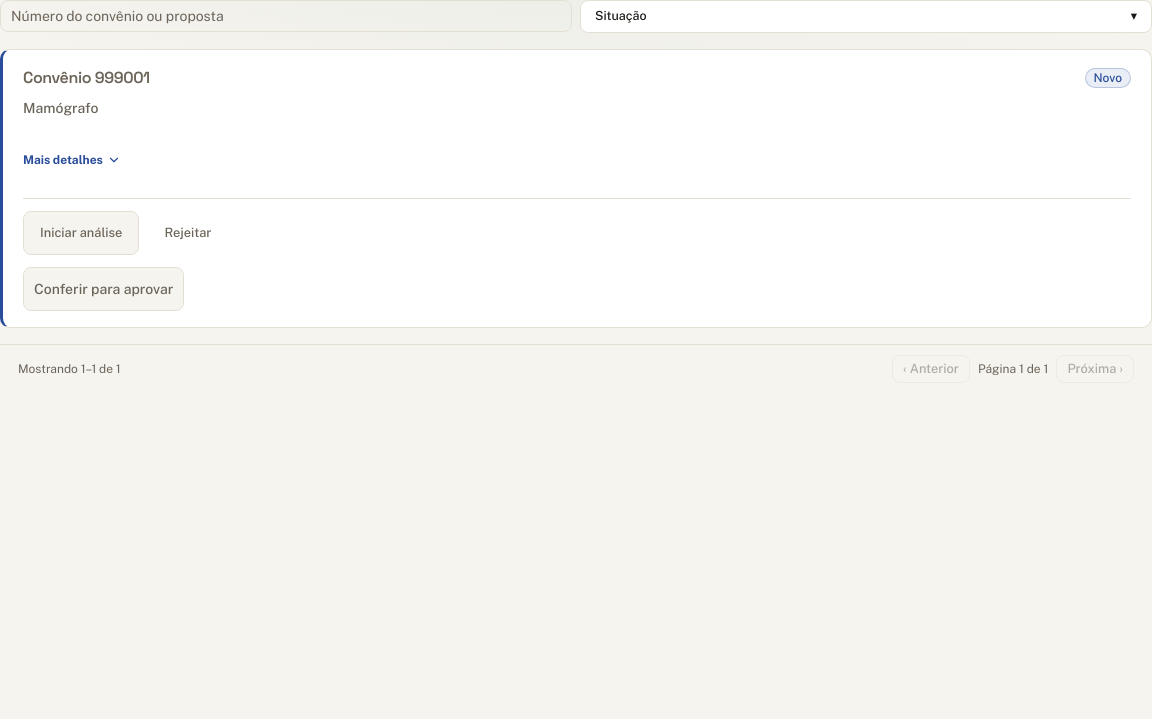
it: conferência e aprovação no Radar › permite ao admin abrir a prova sem inclusão automática
Expected: the heading "Convênio 999001" is shown, [23,66,150,90]
Click the button "Conferir para aprovar": (104,289) [23,267,184,311]
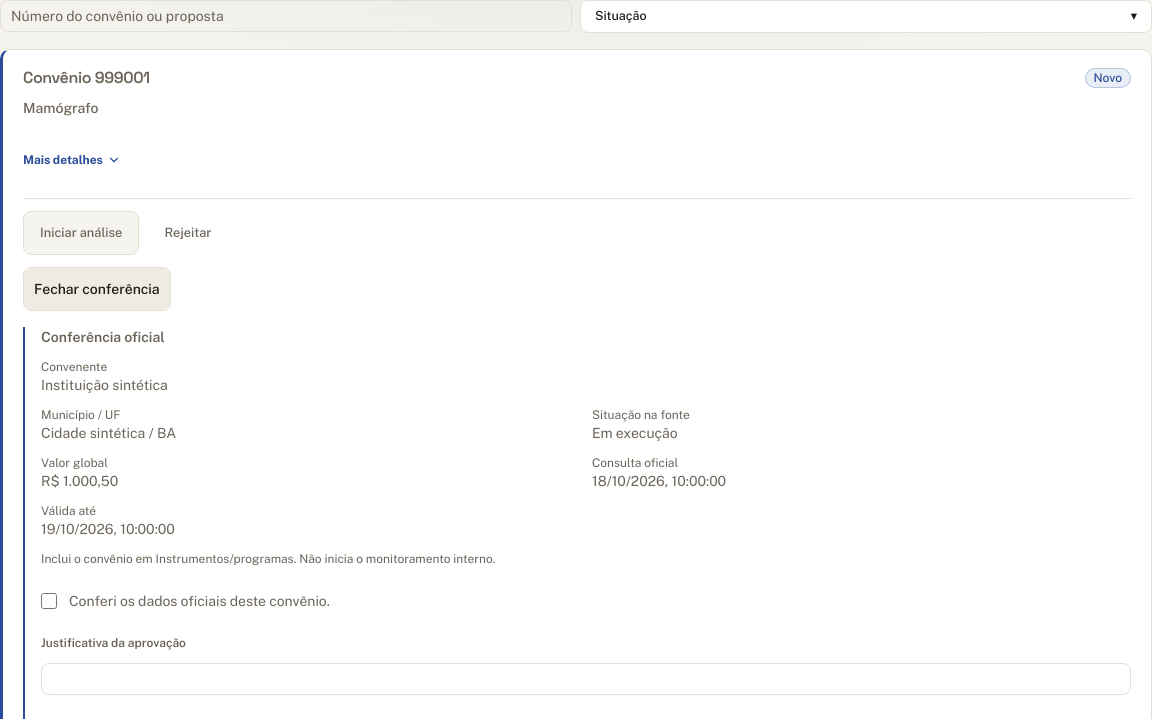
Result: the text "Instituição sintética" is shown at [41,377,168,393]
Result: the text "Em execução" is shown at [592,425,678,441]
Result: the text "R$ 1.000,50" is shown at [41,473,118,489]
